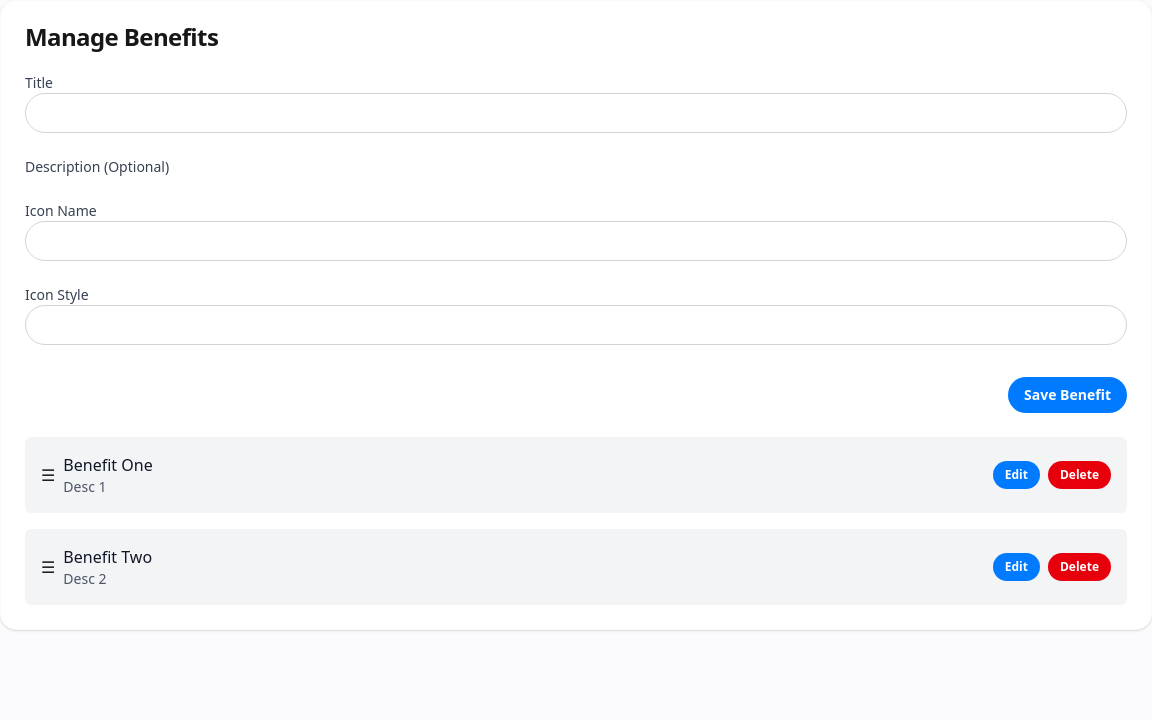
Test: BenefitsEditor › optimistically removes a benefit on delete and shows success toast
Expected: the text "Benefit One" is shown, [63,454,153,476]
Click the button "Delete" in the row of "Benefit One": point(1080, 475) [1048,461,1111,489]
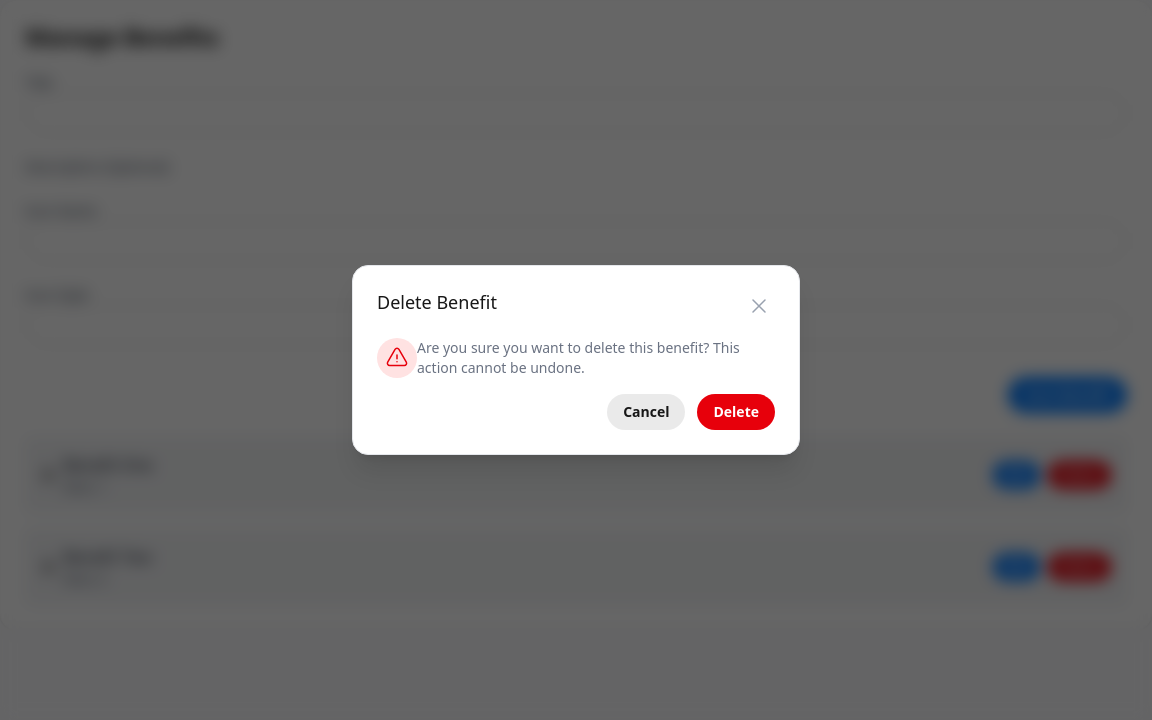
Click the button "Delete": point(736, 412) [698,394,775,430]
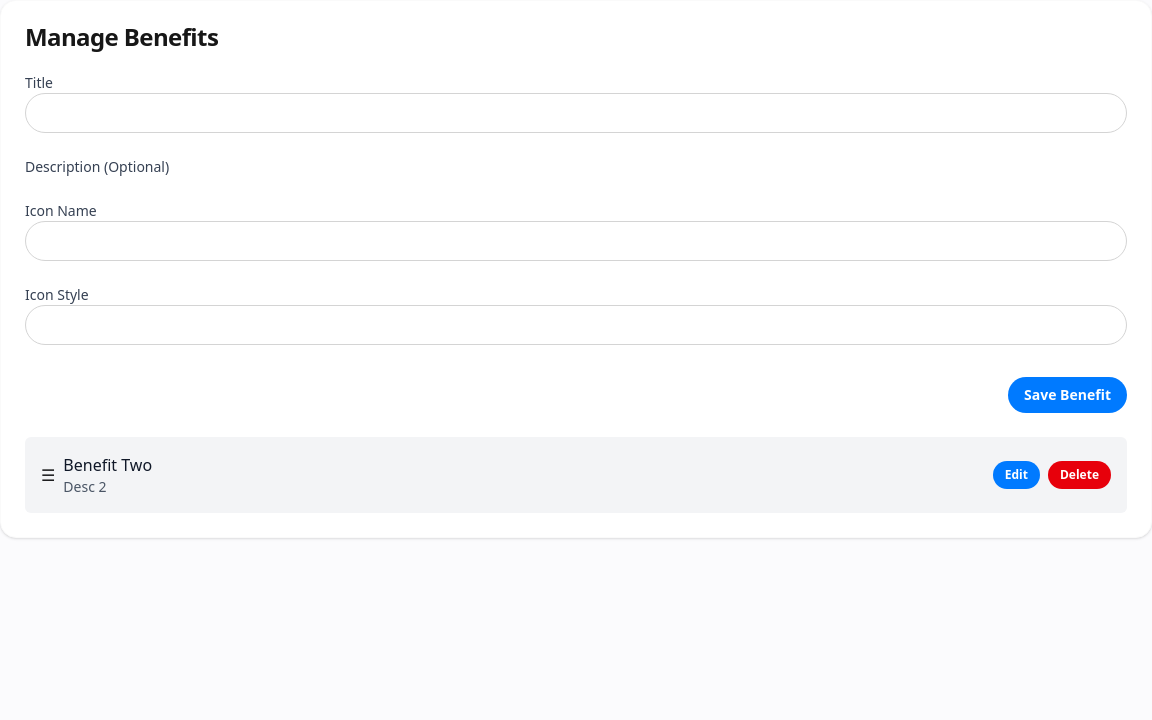
Now the text "Benefit One" is gone
